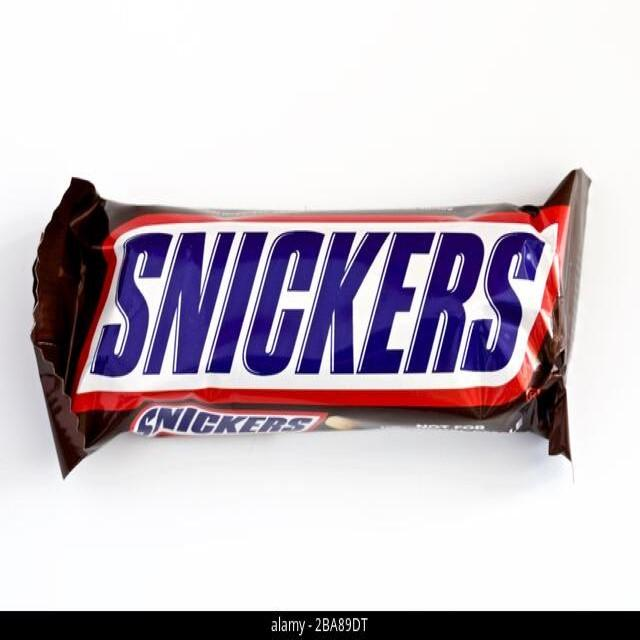snickers_chocolate: (65, 195, 568, 457)
